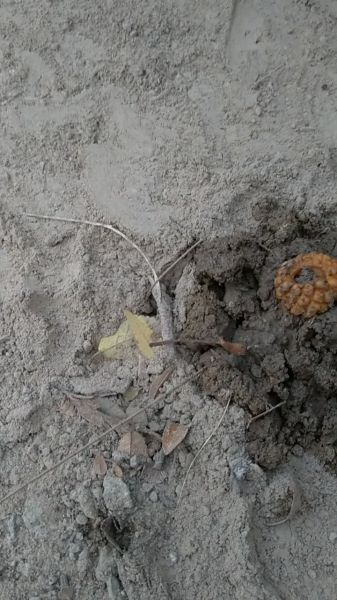eggs: (266, 247, 337, 320)
